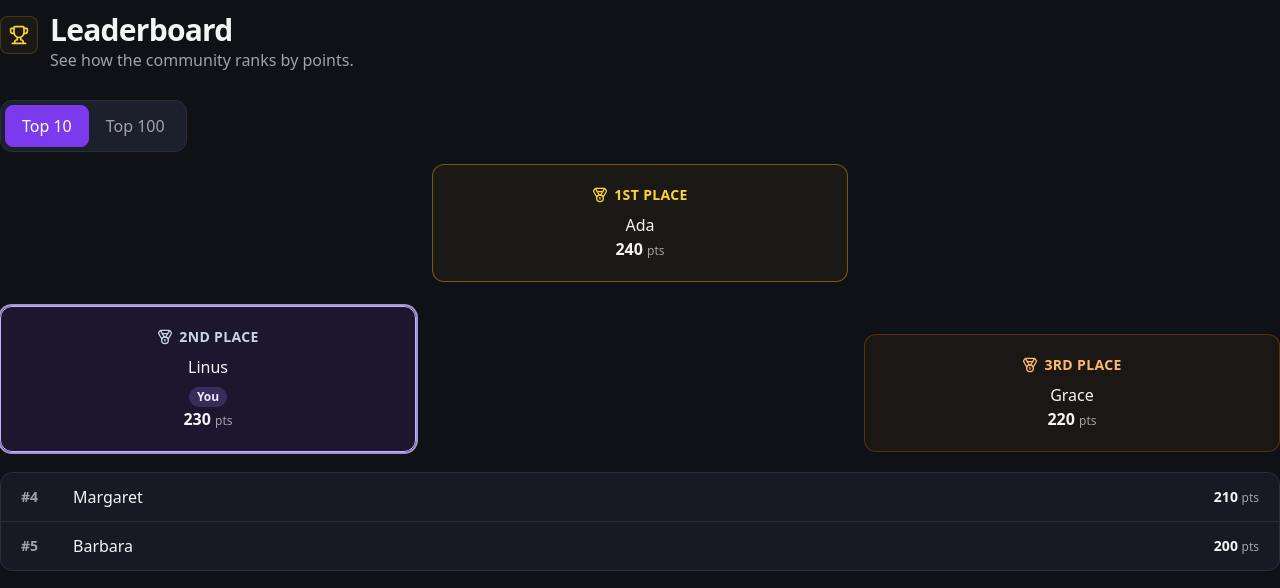
Scenario: Phase 8 leaderboard › keeps one correctly positioned current-user entry when switching ranges
This screenshot has width=1280, height=588.
Expected: the text "2nd place" is shown, [179,327,259,347]
Expected: the number of links named "View profile for Linus" is 1, [188,356,228,378]
Click the button "Top 100": [135, 126] box [89,105,182,147]
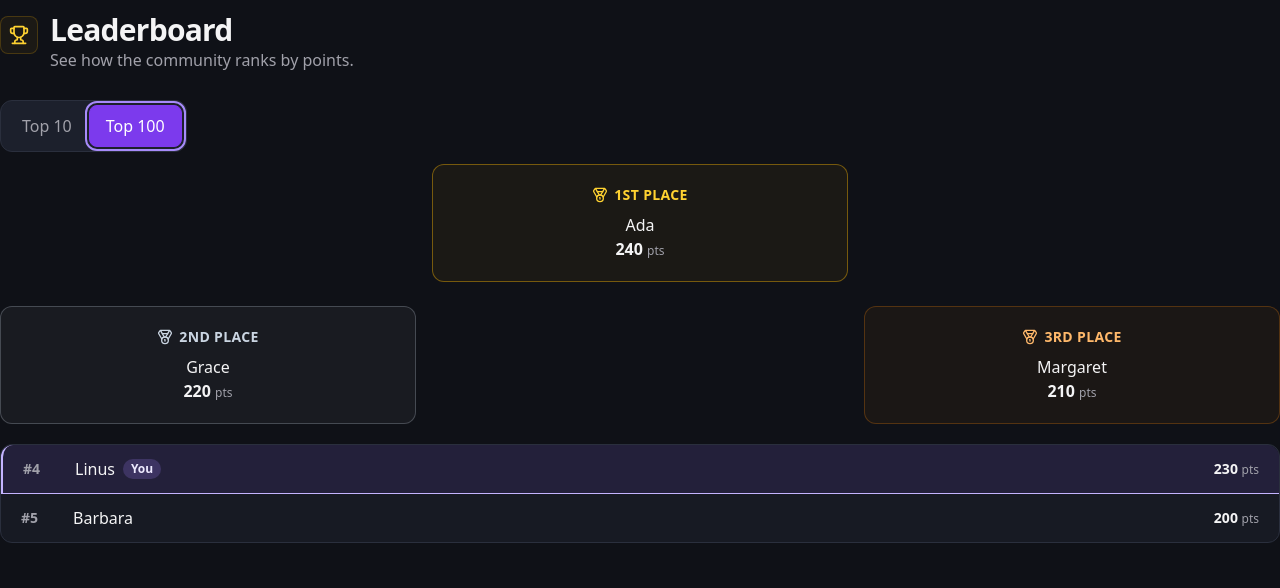
Expected: the text "#4" is shown, [23,459,40,478]
Expected: the text "You" is shown once, [123,459,161,479]
Click the button "Top 10": [47, 126] box [5,105,89,147]
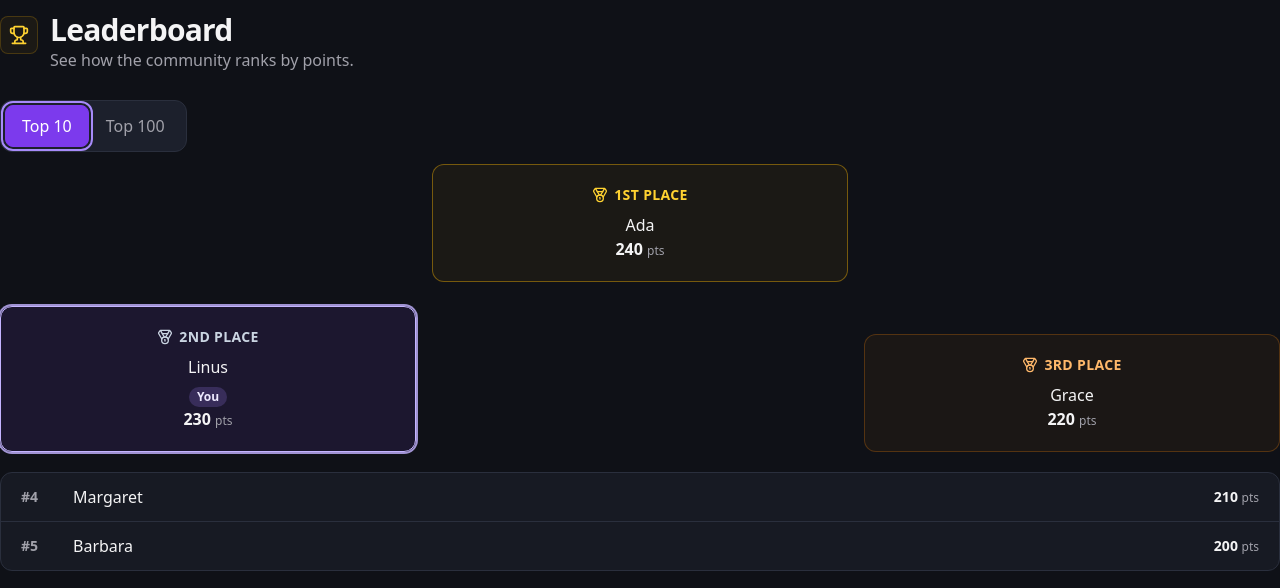
Expected: the text "2nd place" is shown, [179,327,259,347]
Expected: the text "You" is shown once, [189,387,227,407]
